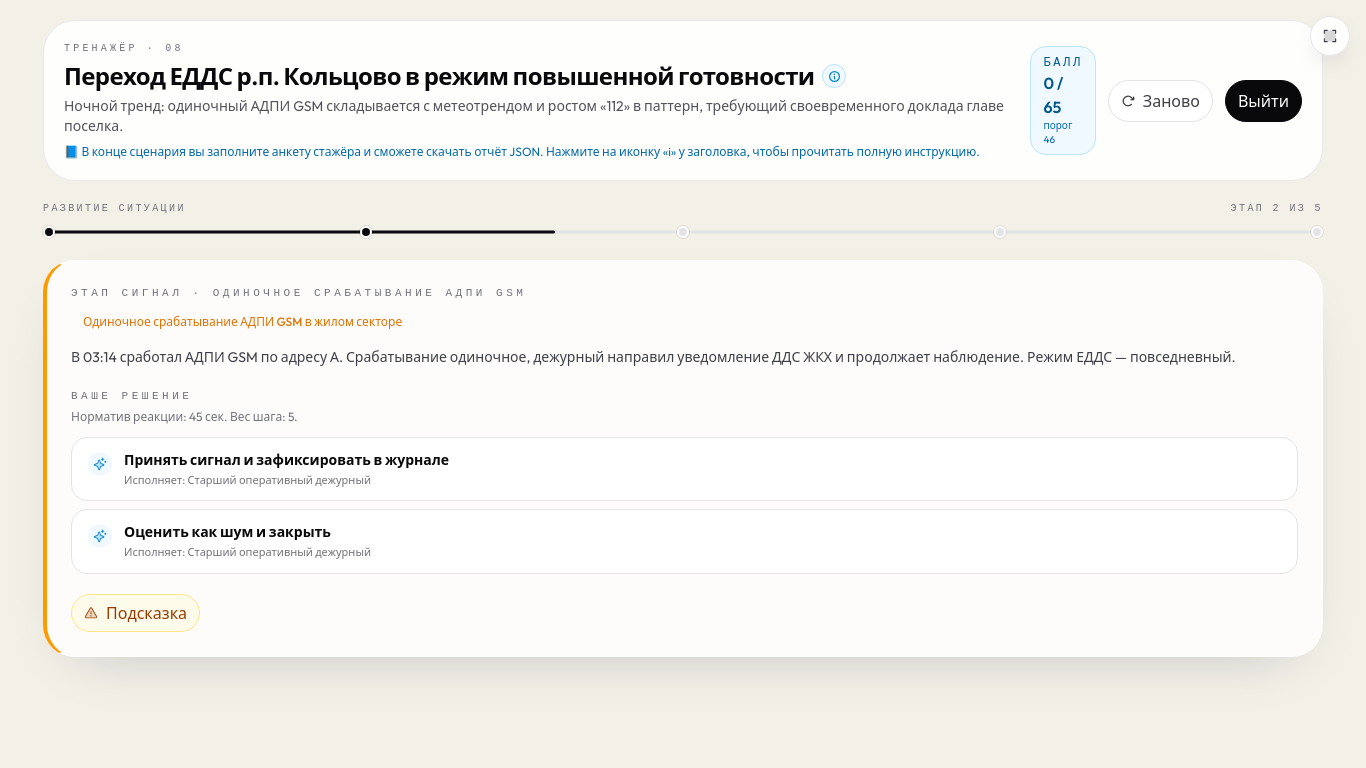
Trainer route (Phase 4.d) › reaches the summary after clicking through all interactive steps
The image size is (1366, 768).
edds-1 → acknowledge-signal
Click the button with test id "trainer-action-acknowledge-signal" at x=287, y=460, box x1=71 y1=437 x2=1298 y2=501
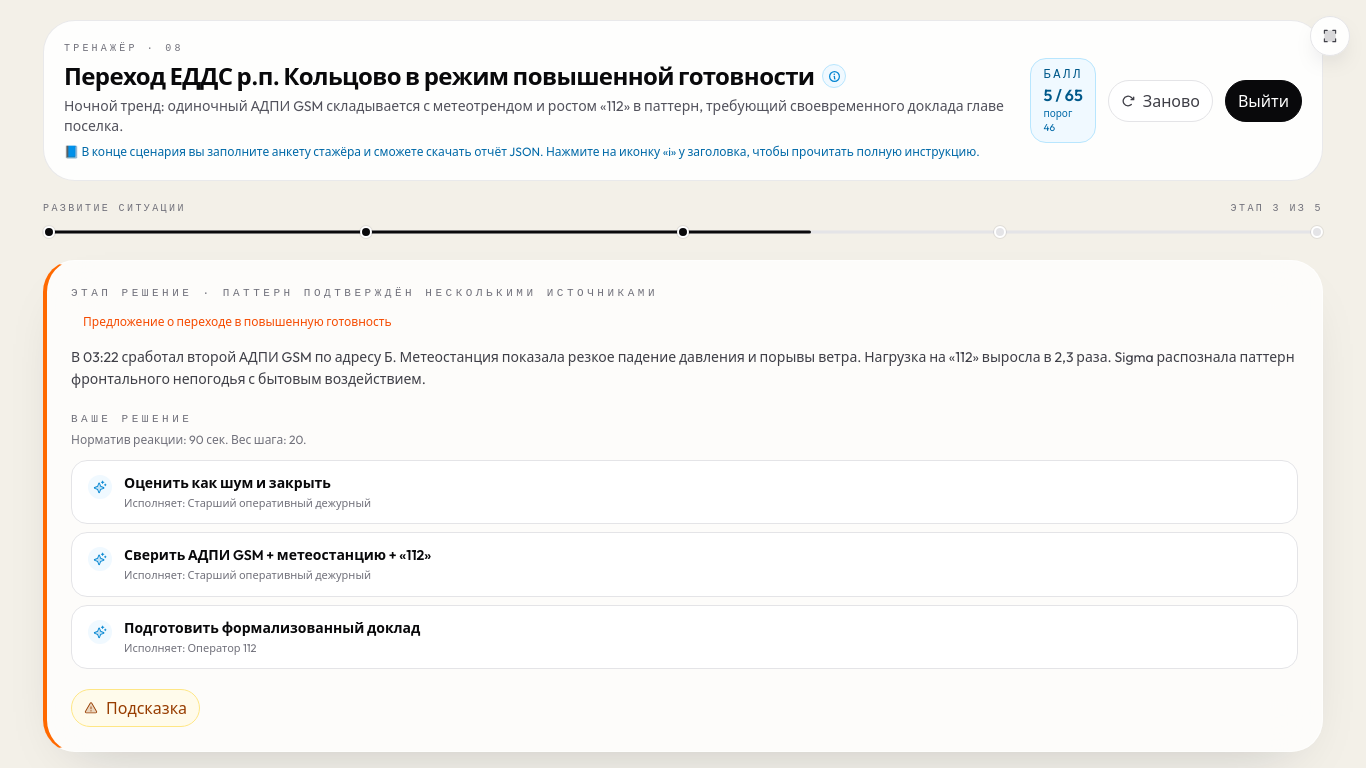
Click the button with test id "trainer-action-cross-check-sources" at x=278, y=555, box x1=71 y1=532 x2=1298 y2=596
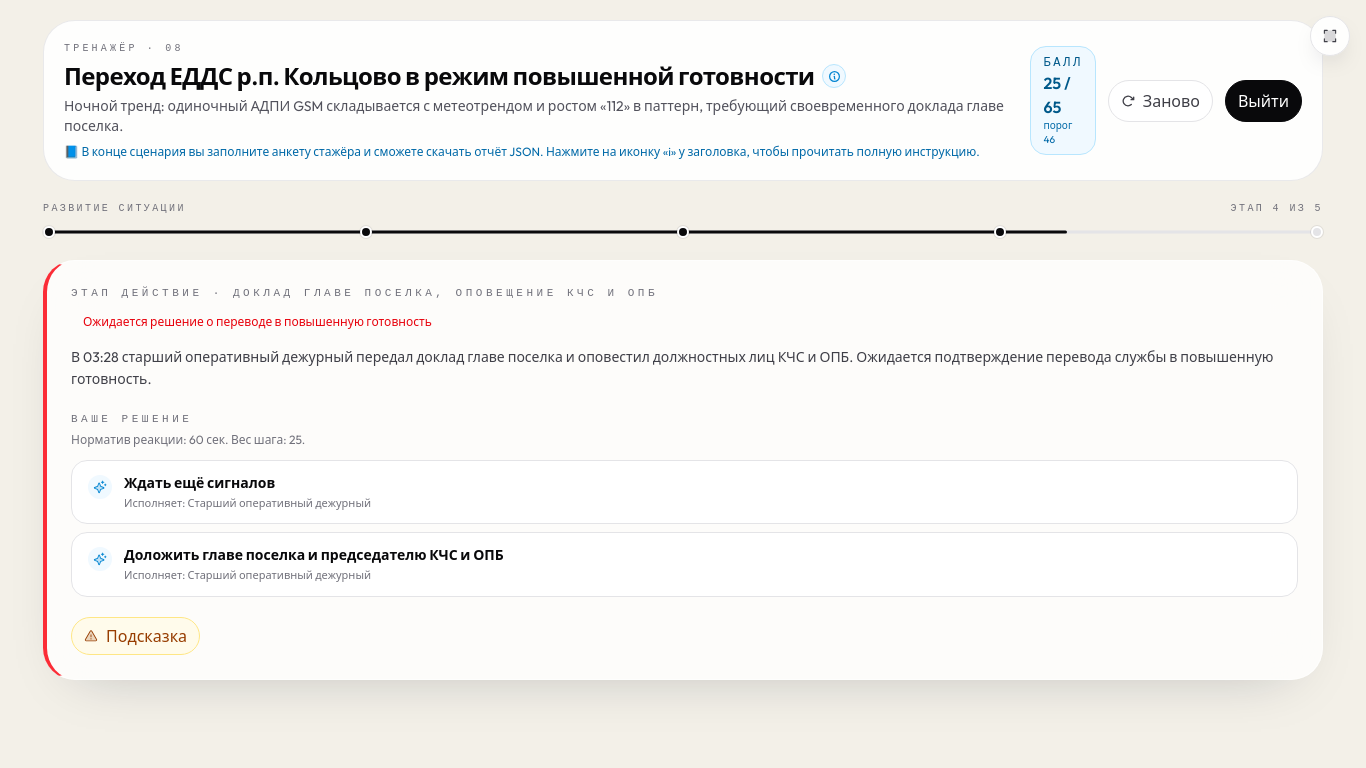
edds-3 → report-to-head
Click the button with test id "trainer-action-report-to-head" at x=314, y=555, box x1=71 y1=532 x2=1298 y2=596
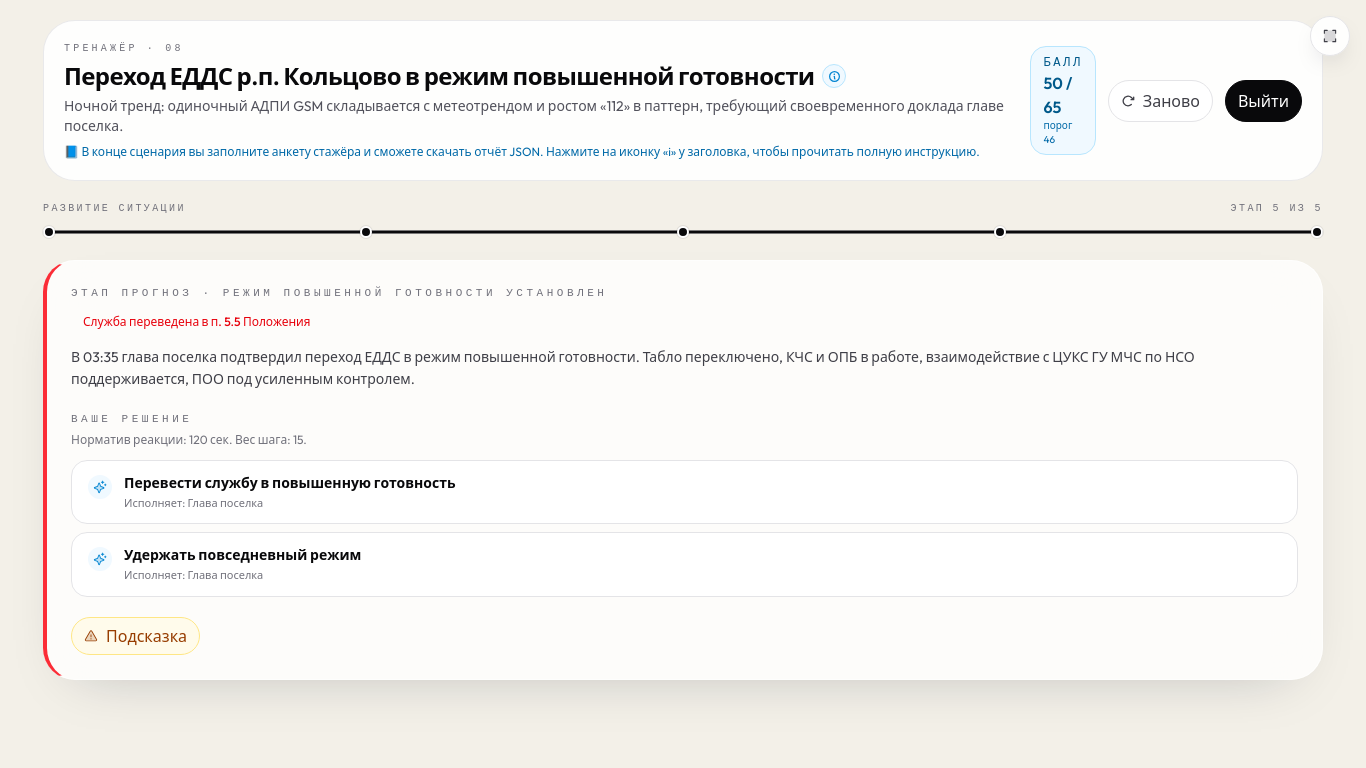
edds-4 → transition-to-elevated
Click the button with test id "trainer-action-transition-to-elevated" at x=290, y=482, box x1=71 y1=460 x2=1298 y2=524
(page scrolled)
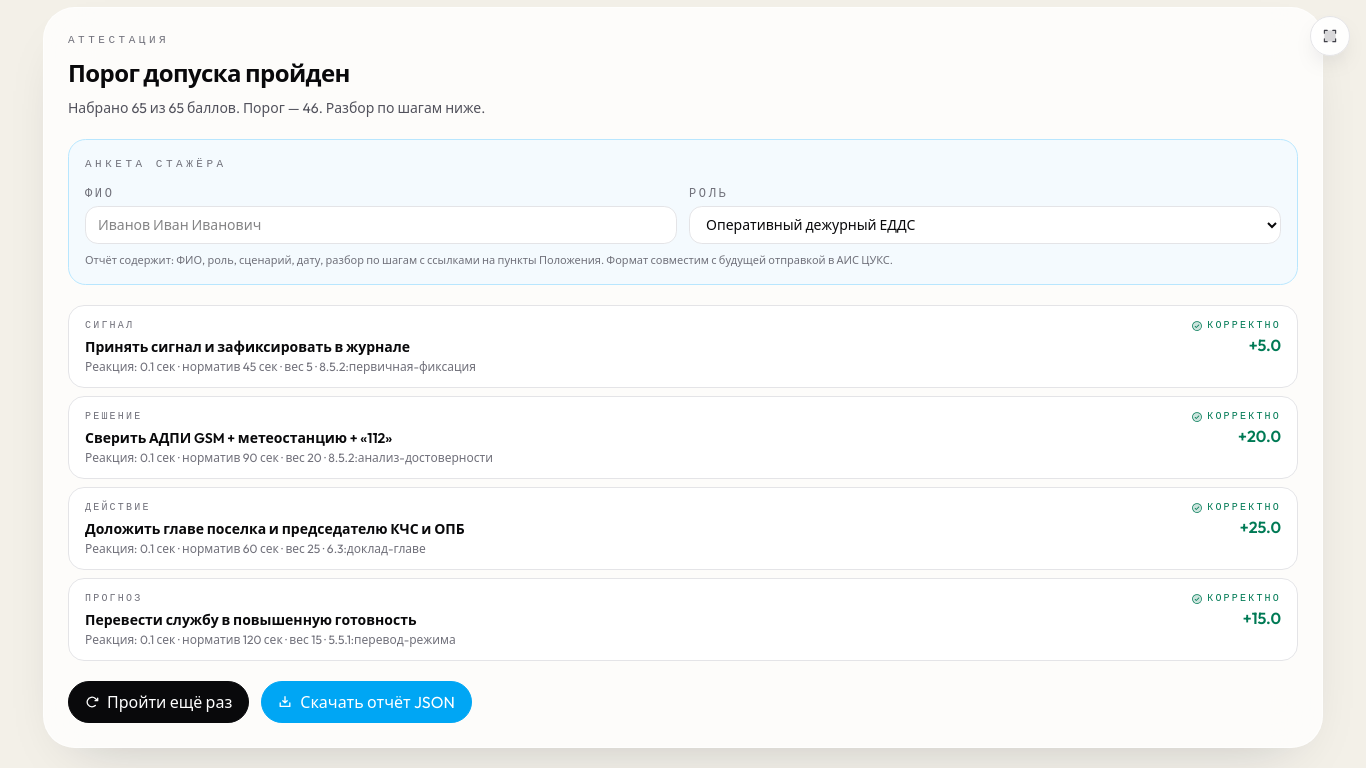
Check: the element with test id "trainer-summary" is shown
Check: the list item with test id "trainer-summary-row-edds-1" is shown, box x1=68 y1=305 x2=1298 y2=388
Check: the list item with test id "trainer-summary-row-edds-4" is shown, box x1=68 y1=578 x2=1298 y2=661
